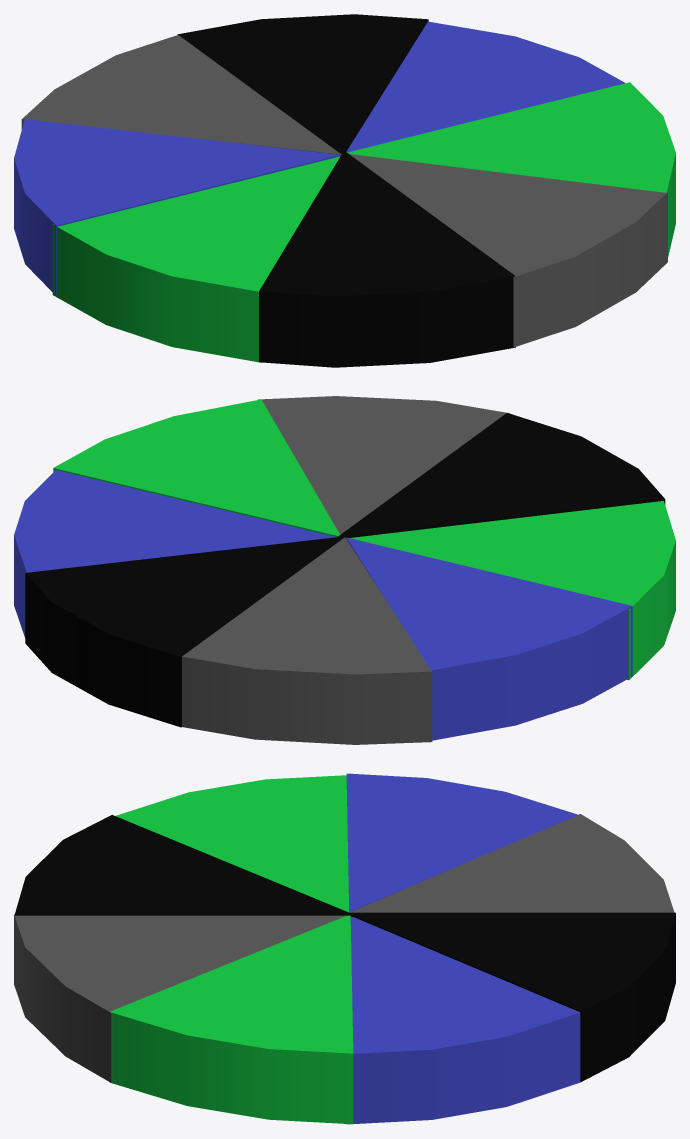
File: Blocks.fbx
3 renders of one model, top to bottom at view 1: azimuth 30°, elevation 25°; view 2: azimuth 150°, elevation 25°; view 3: azimuth 270°, elevation 25°, orthographic.
Visible parts, largest first — view 1: root (×4), node_id76, node_id75, node_id78, node_id77; view 2: root (×4), node_id75, node_id76, node_id77, node_id78; view 3: root (×4), node_id77, node_id78, node_id76, node_id75.
Part boxes in pixels (box(x1,y1,x2,y2)): root (×4): box(14, 14, 625, 295); node_id76: box(259, 151, 515, 367); node_id75: box(52, 156, 340, 362); node_id78: box(349, 154, 667, 347); node_id77: box(347, 82, 675, 257); root (×4): box(14, 470, 632, 744); node_id75: box(349, 501, 675, 680); node_id76: box(338, 413, 665, 537); node_id77: box(53, 399, 339, 536); node_id78: box(258, 396, 509, 534); root (×4): box(346, 773, 675, 1124); node_id77: box(110, 915, 353, 1124); node_id78: box(14, 914, 346, 1082); node_id76: box(14, 815, 353, 916); node_id75: box(116, 775, 349, 912).
Bounding box in the file's own units: 0.4813 × 0.0574 × 0.4806.
6 materials, 4 textured.
